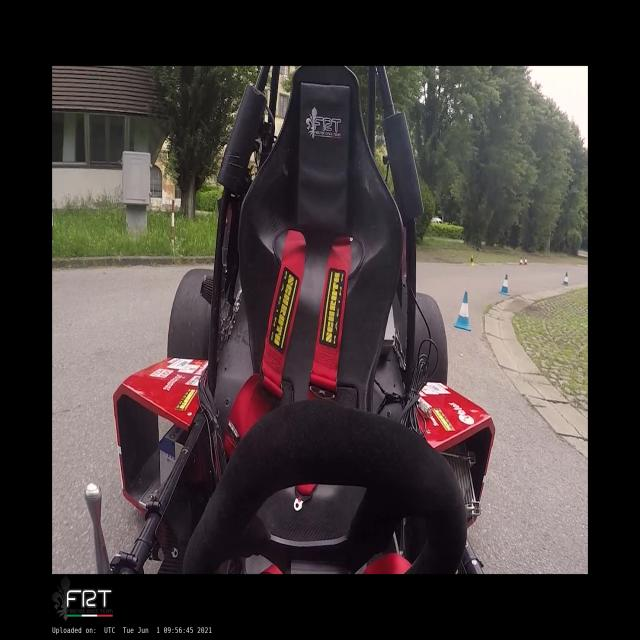blue_cone: (454, 292, 471, 332), (498, 274, 509, 295), (562, 272, 568, 286)
unknown_cone: (519, 256, 524, 266), (524, 258, 528, 266)
yellow_cone: (469, 254, 475, 266)
